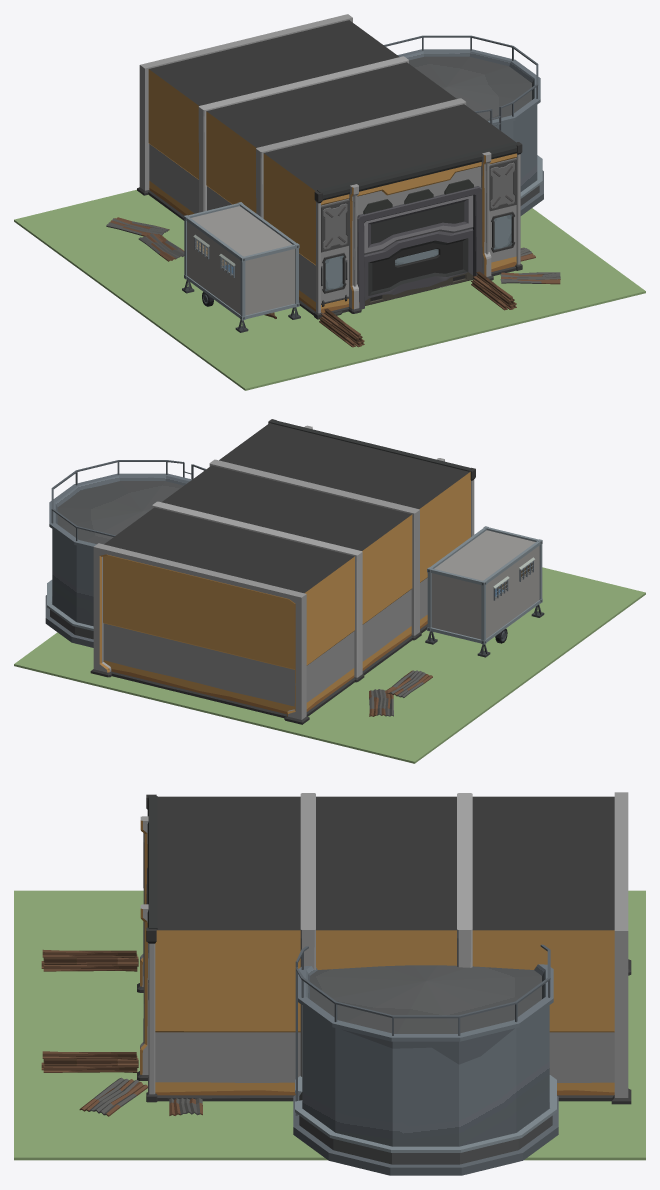
Rendered from composite-plant.glb.
The picture shows the model from 3 angles, top to bottom: view 1: azimuth 30°, elevation 25°; view 2: azimuth 150°, elevation 25°; view 3: azimuth 270°, elevation 25°; orthographic projection. The views are drawn at different scales.
Parts seen in each view (by area): view 1: Warehouse_Main, Ground, Admin_Office, WaterTank, BeamStack_0, BeamStack_1, Sheet_3, Sheet_0, Sheet_1; view 2: Warehouse_Main, Ground, WaterTank, Admin_Office, Sheet_0, Sheet_1; view 3: Warehouse_Main, WaterTank, Ground, BeamStack_0, BeamStack_1, Sheet_3, Sheet_2.
Part boxes in pixels (x1=…): Warehouse_Main: x1=137, y1=14, x2=522, y2=319; Ground: x1=14, y1=189, x2=645, y2=390; Admin_Office: x1=182, y1=202, x2=300, y2=332; WaterTank: x1=384, y1=35, x2=543, y2=215; BeamStack_0: x1=319, y1=308, x2=364, y2=347; BeamStack_1: x1=471, y1=271, x2=516, y2=310; Sheet_3: x1=500, y1=272, x2=560, y2=284; Sheet_0: x1=138, y1=233, x2=184, y2=261; Sheet_1: x1=106, y1=217, x2=169, y2=236; Warehouse_Main: x1=90, y1=419, x2=475, y2=724; Ground: x1=14, y1=567, x2=645, y2=763; WaterTank: x1=45, y1=460, x2=206, y2=647; Admin_Office: x1=425, y1=526, x2=544, y2=657; Sheet_0: x1=385, y1=670, x2=432, y2=697; Sheet_1: x1=369, y1=689, x2=393, y2=716; Warehouse_Main: x1=137, y1=792, x2=631, y2=1104; WaterTank: x1=293, y1=944, x2=558, y2=1175; Ground: x1=14, y1=890, x2=645, y2=1160; BeamStack_0: x1=41, y1=949, x2=138, y2=971; BeamStack_1: x1=41, y1=1051, x2=138, y2=1072; Sheet_3: x1=79, y1=1077, x2=147, y2=1116; Sheet_2: x1=169, y1=1098, x2=202, y2=1115.
Size of the model in its own units: 34.87 by 10.1 by 32.
3 materials, 2 textured.
